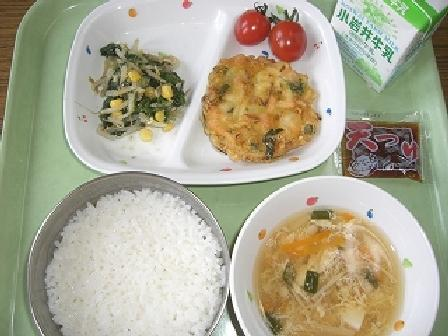Cherry tomatoes: (228, 5, 310, 55)
Milk: (329, 2, 447, 77)
Rice: (24, 178, 227, 335)
Salad: (87, 45, 182, 140)
Soups: (227, 190, 430, 335)
casserole with meat and vegetables: (199, 51, 326, 156)
